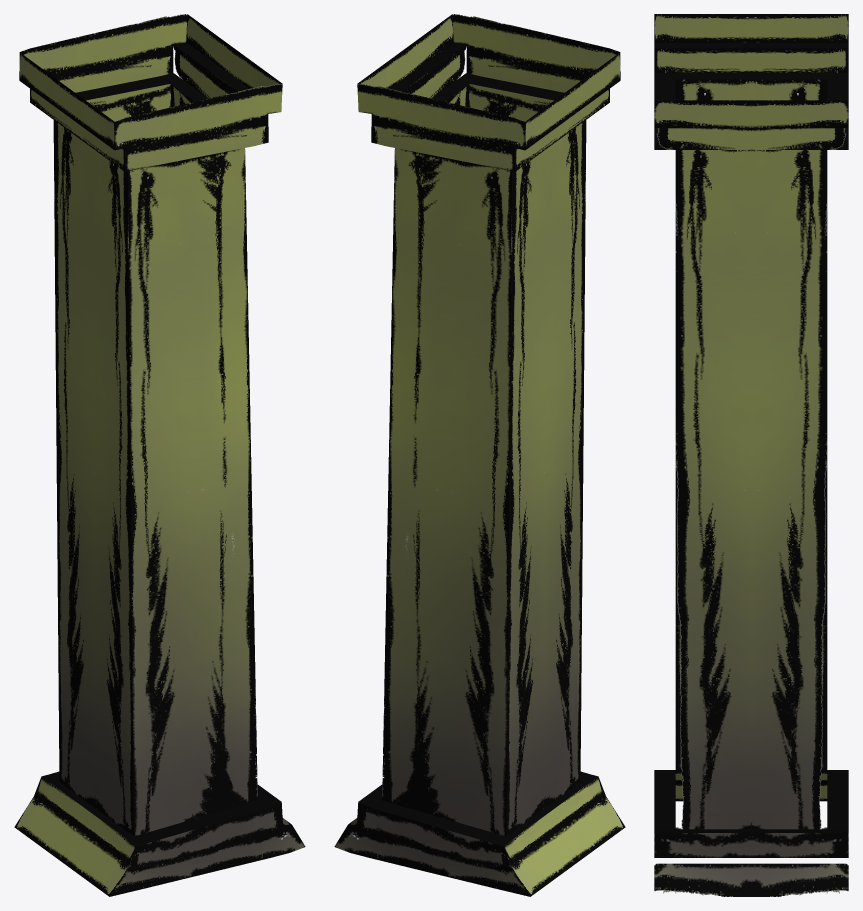
Rendered from PILAR .fbx.
3 renders of one model, left to right at view 1: azimuth 30°, elevation 25°; view 2: azimuth 150°, elevation 25°; view 3: azimuth 270°, elevation 25°, orthographic. The views are drawn at different scales.
Parts seen in each view (by area): view 1: Cube.008; view 2: Cube.008; view 3: Cube.008.
Part boxes in pixels (bbox=[...]): Cube.008: bbox=[14, 14, 305, 896]; Cube.008: bbox=[334, 14, 625, 896]; Cube.008: bbox=[654, 14, 848, 896].
Bounding box in the file's own units: 102 × 384 × 85.5.
